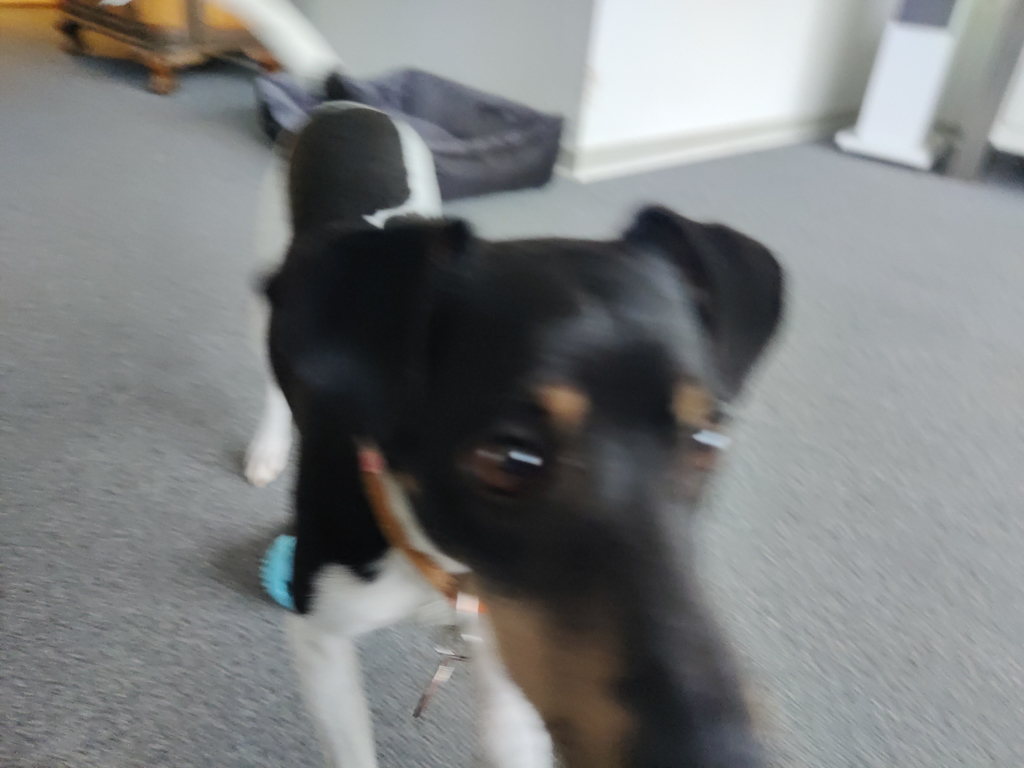Dog: (178, 0, 835, 768)
